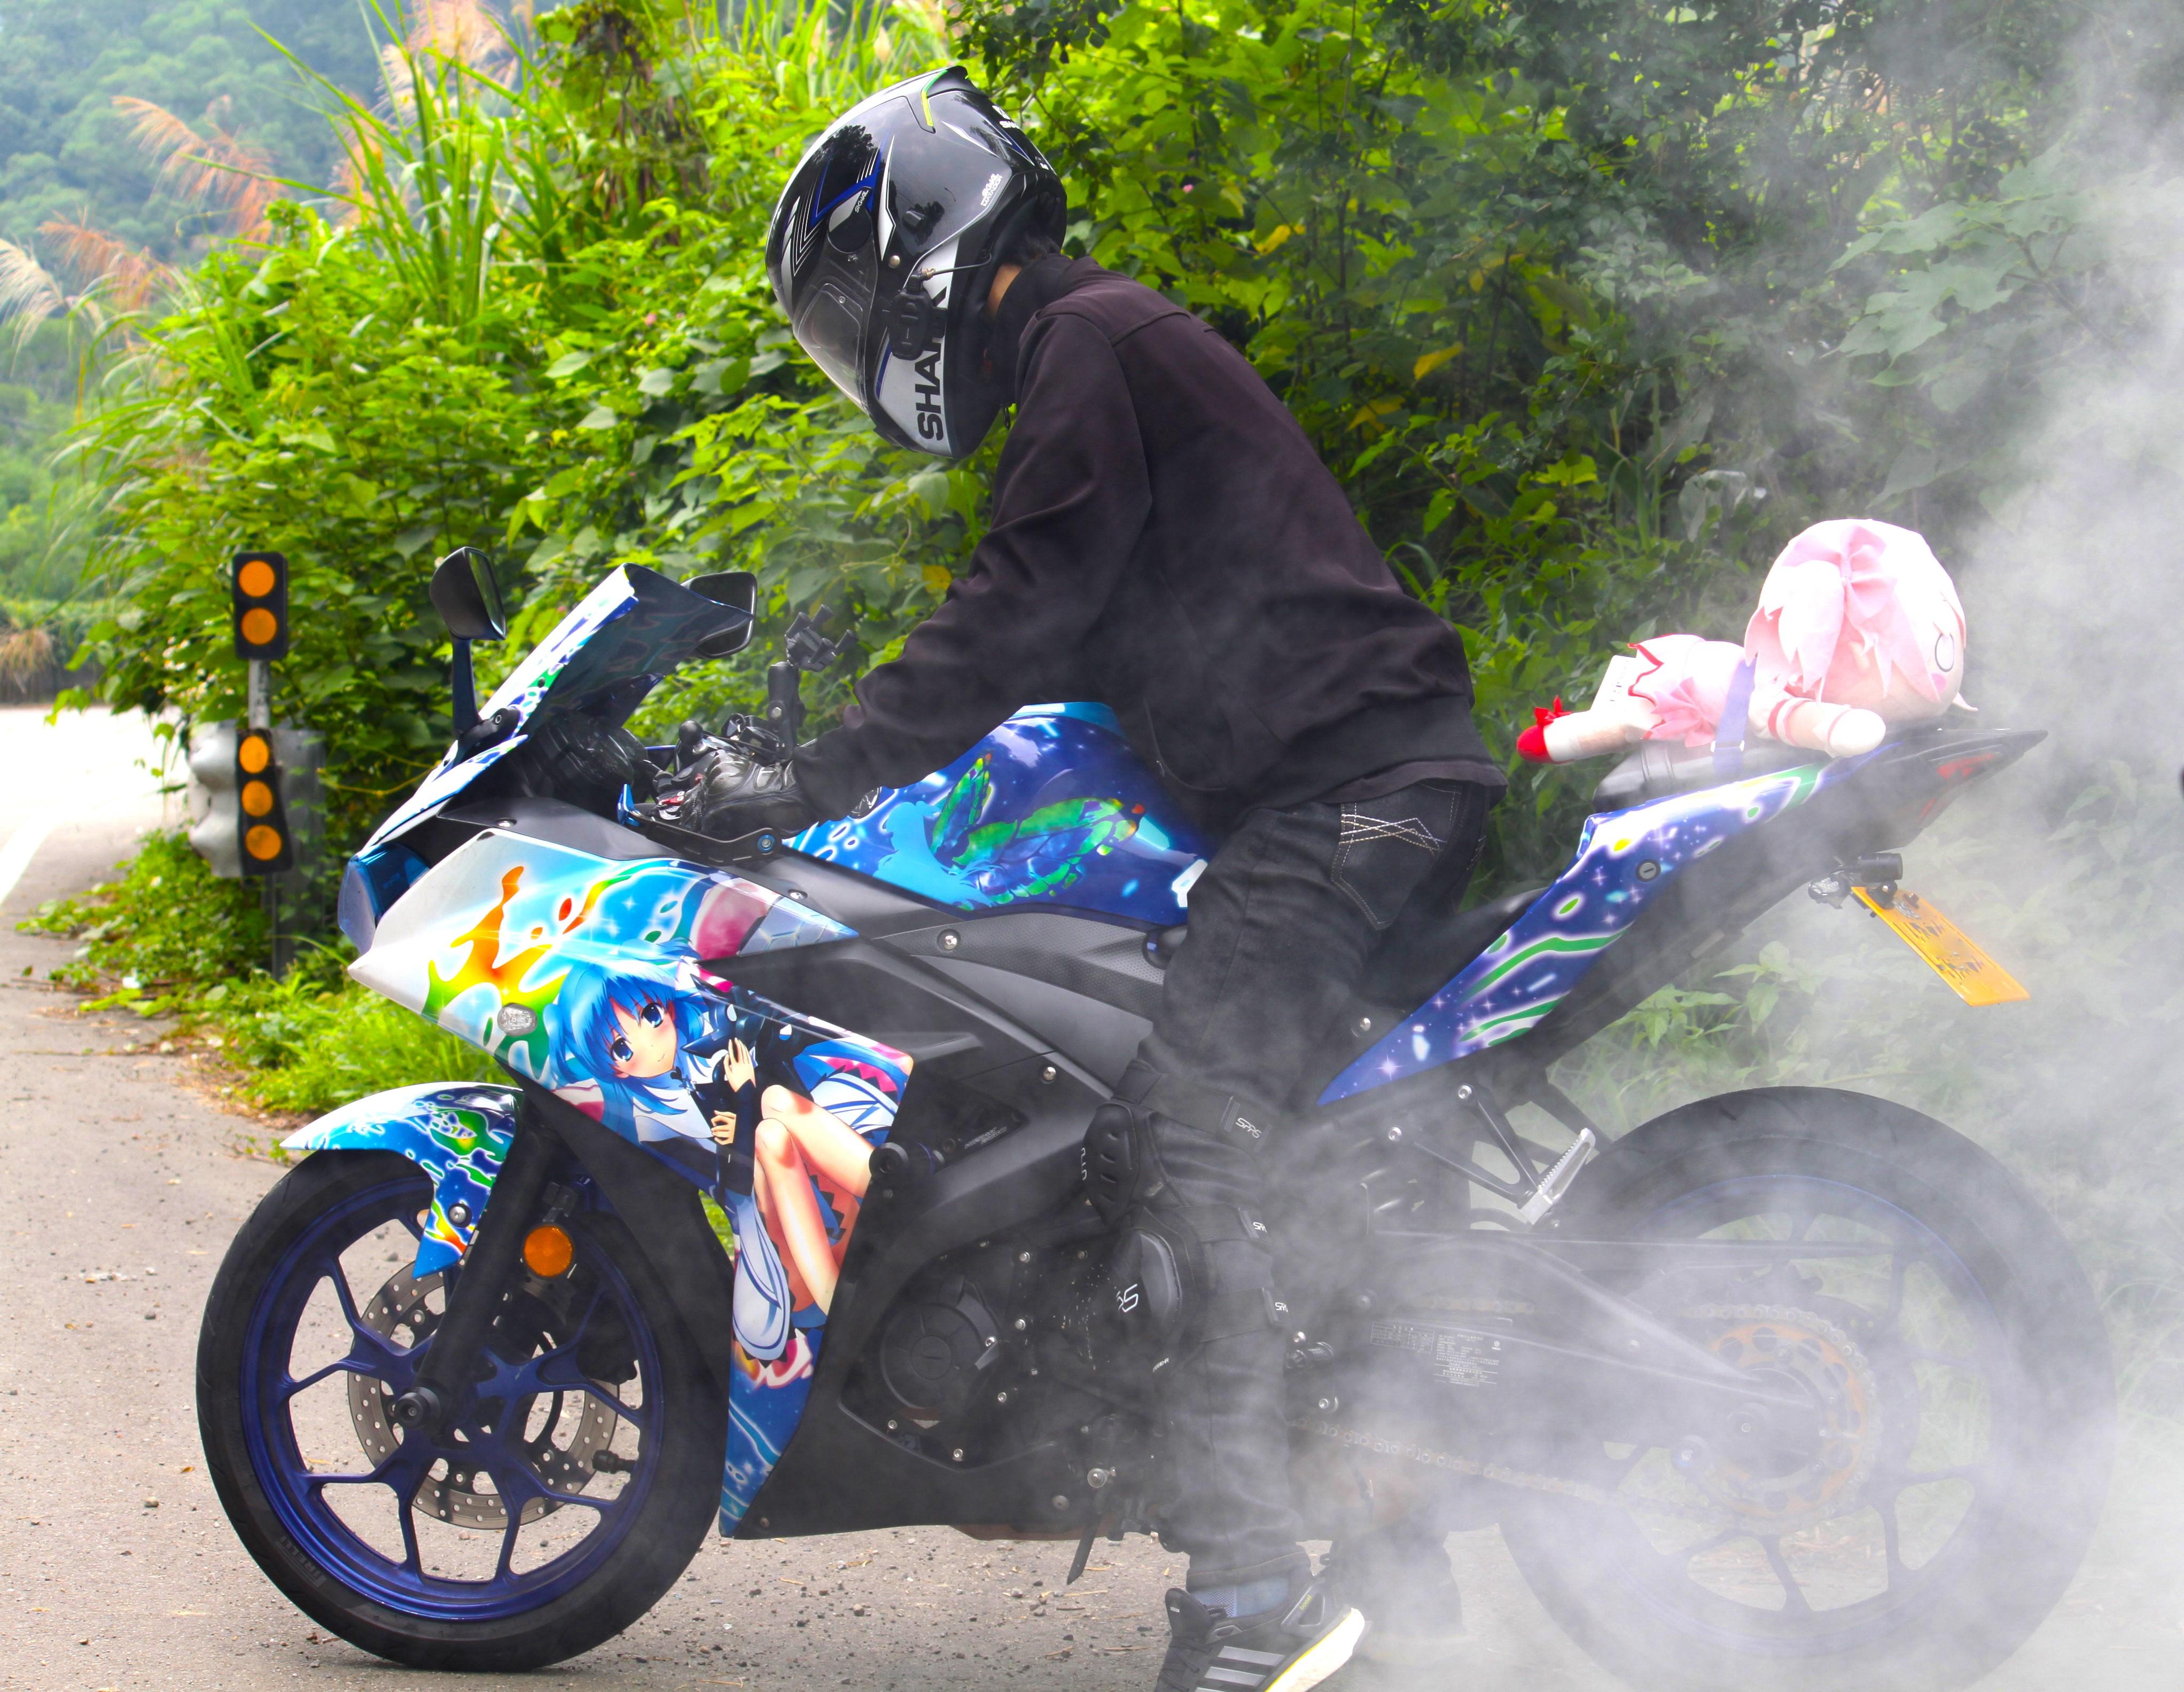helmet: (718, 113, 1065, 422)
